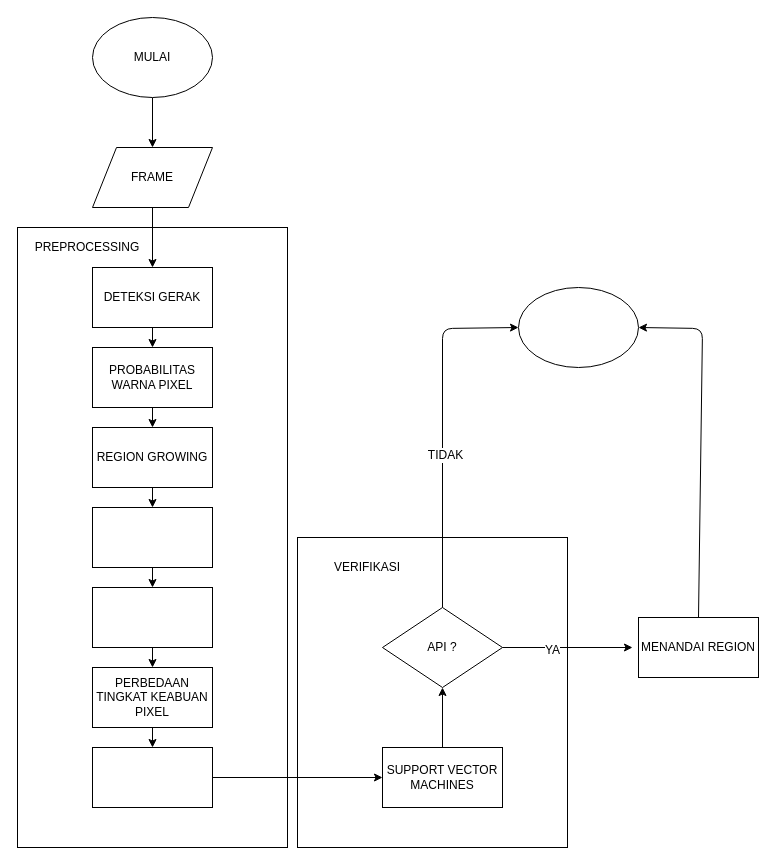
This 776x865 diagram has some shape labels left out. The shapes that lost their labels are listed below. From the top down, each one's centre as x and y in pixels, then its label:
(578,327): SELESAI
(152,537): TINGKAT KEABUAN PIXEL
(152,617): VARIASI WARNA OBJEK
(152,777): PERGERAKAN TITIK TENGAH OBJEK
